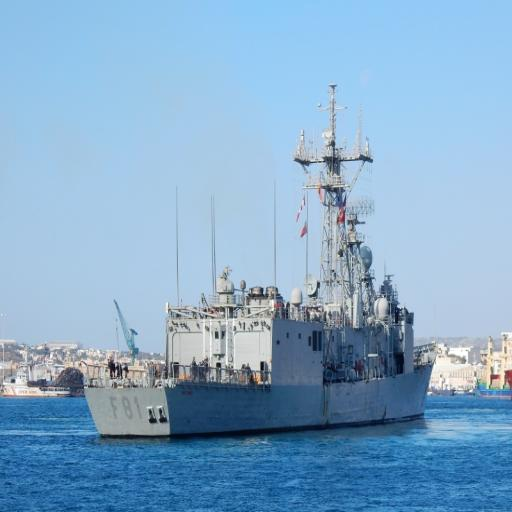Fragata: (80, 81, 439, 442)
